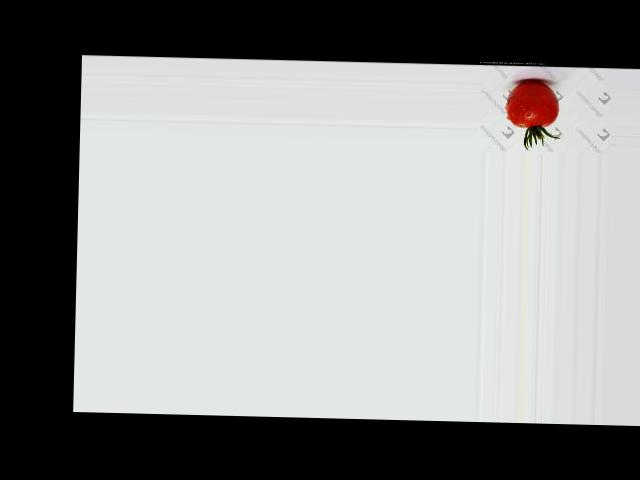tomato: (507, 79, 560, 127)
